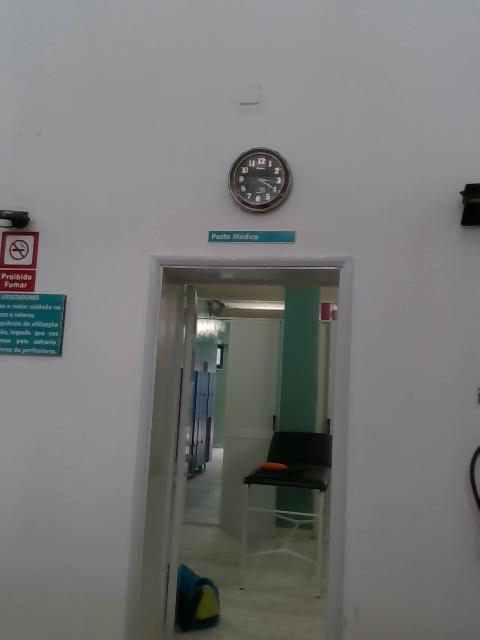open_door: (123, 250, 353, 639)
